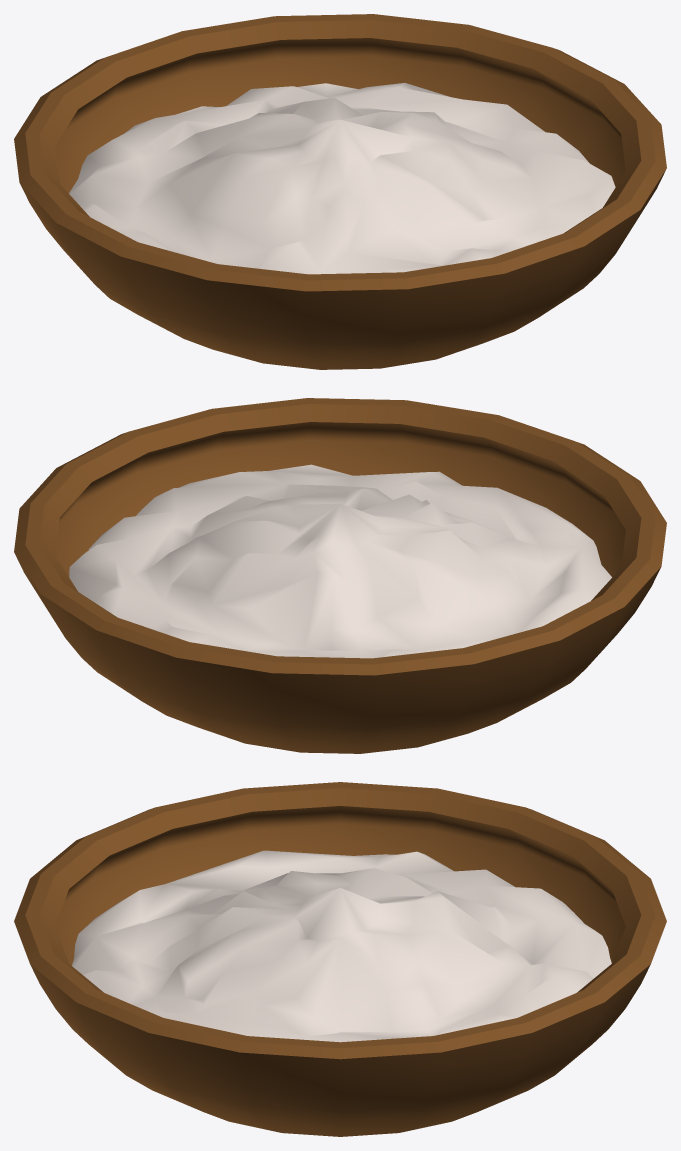
The model's file is mesh_bowl_flour.fbx.
The picture shows the model from 3 angles, top to bottom: view 1: azimuth 30°, elevation 25°; view 2: azimuth 150°, elevation 25°; view 3: azimuth 270°, elevation 25°; orthographic projection.
Visible parts, largest first — view 1: mesh_bowl_flour; view 2: mesh_bowl_flour; view 3: mesh_bowl_flour.
Part boxes in pixels (x1,y1,x2,y2): mesh_bowl_flour: (14, 14, 666, 369); mesh_bowl_flour: (14, 398, 666, 753); mesh_bowl_flour: (14, 782, 666, 1136).
Size of the model in its own units: 0.4313 by 0.1233 by 0.4315.
